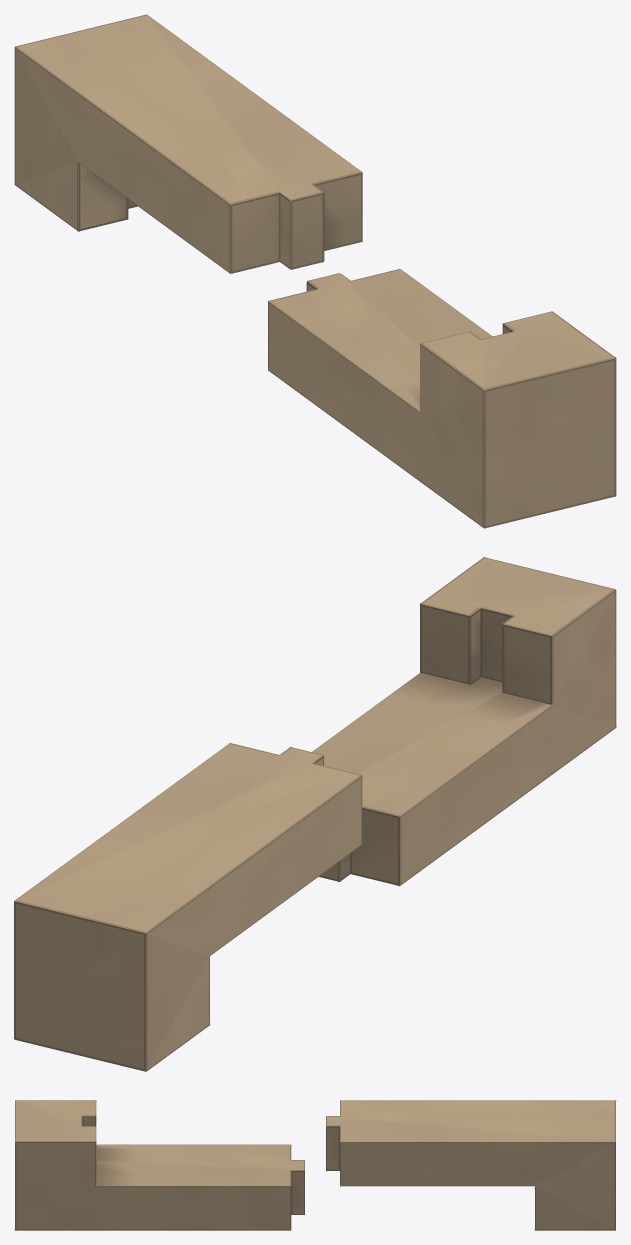
The model's file is meji-tsukikake-awase-tsugi.glb.
3 views of the same model, one above another, from view 1: azimuth 30°, elevation 25°; view 2: azimuth 150°, elevation 25°; view 3: azimuth 270°, elevation 25° (orthographic). The views are drawn at different scales.
Visible parts, largest first — view 1: part-a, part-b; view 2: part-b, part-a; view 3: part-a, part-b.
Boxes of the visible parts, <box> form: part-a: <box>268,269,616,528</box>; part-b: <box>14,14,362,273</box>; part-b: <box>14,743,362,1071</box>; part-a: <box>312,557,616,886</box>; part-a: <box>14,1100,304,1230</box>; part-b: <box>326,1100,616,1230</box>.
Size of the model in its own units: 0.1212 by 0.1209 by 0.7424.
